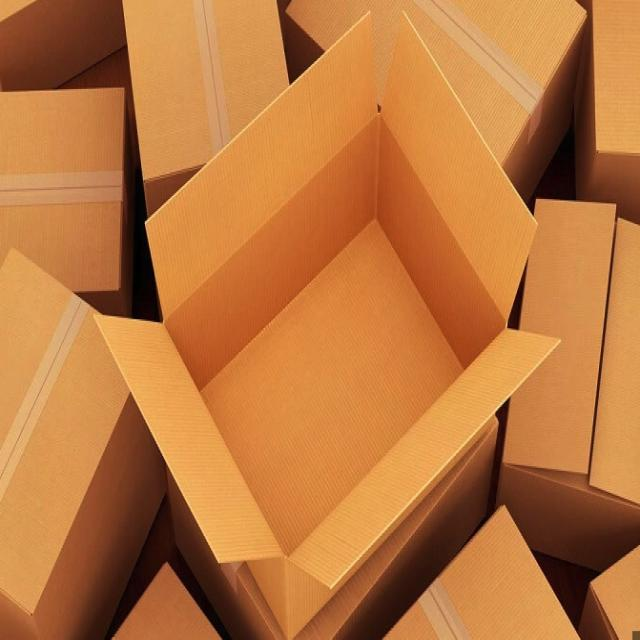Kardus: (90, 6, 562, 635)
